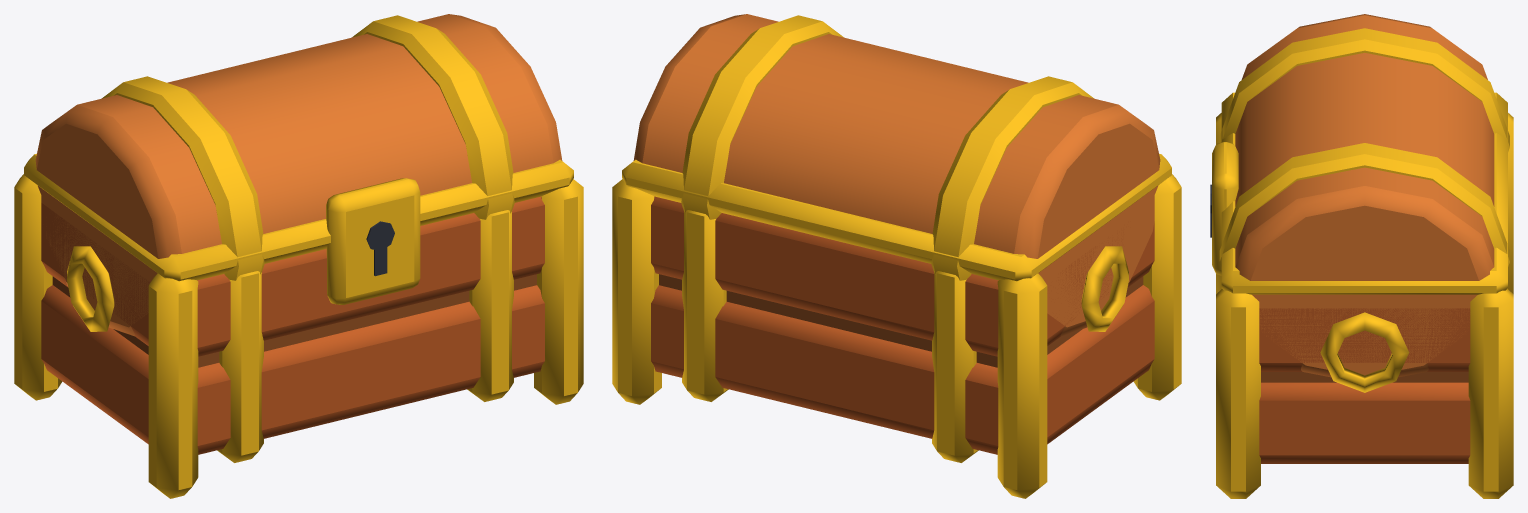
Rendered from storage-chest.glb.
The picture shows the model from 3 angles, left to right: view 1: azimuth 30°, elevation 25°; view 2: azimuth 150°, elevation 25°; view 3: azimuth 270°, elevation 25°; orthographic projection. The views are drawn at different scales.
Visible parts, largest first — view 1: storage-chest; view 2: storage-chest; view 3: storage-chest.
Part boxes in pixels (bbox=[...]): storage-chest: bbox=[14, 14, 583, 498]; storage-chest: bbox=[612, 14, 1181, 498]; storage-chest: bbox=[1210, 14, 1513, 498].
Size of the model in its own units: 1.25 by 0.9257 by 0.8051.
